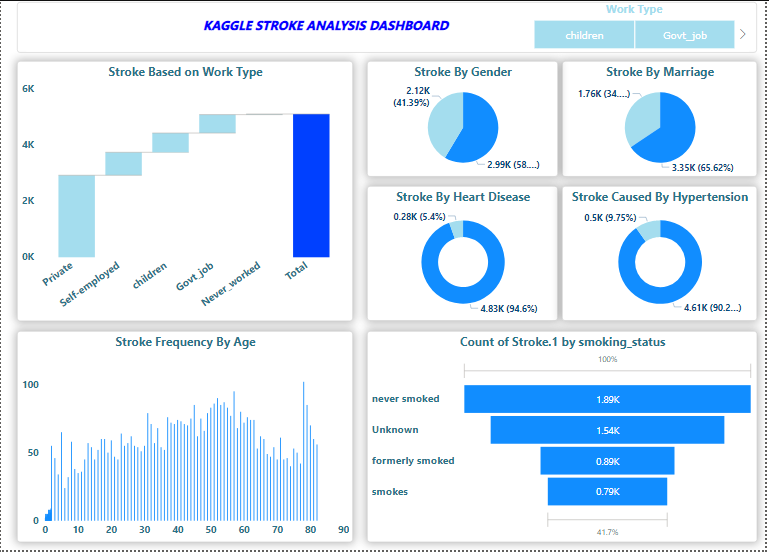

This screenshot's page, from the dashboard's own definition file:
{"tool":"powerbi","page":{"name":"DashBoard","canvas":[1280,920],"ordinal":1},"visuals":[{"type":"clusteredColumnChart","title":"Stroke Frequency By Age","fields":{"Category":["healthcare-dataset-stroke-data.age"],"Y":["CountNonNull(healthcare-dataset-stroke-data.Stroke.1)"]},"box":[26.8,553,563.1,353.6],"z":0},{"type":"funnel","fields":{"Category":["healthcare-dataset-stroke-data.smoking_status"],"Y":["CountNonNull(healthcare-dataset-stroke-data.Stroke.1)"]},"box":[613.3,553,653.6,353.6],"z":1000},{"type":"waterfallChart","title":"Stroke Based on Work Type","fields":{"Category":["healthcare-dataset-stroke-data.work_type"],"Y":["CountNonNull(healthcare-dataset-stroke-data.Stroke.1)"]},"box":[26.8,100.5,563.1,435.7],"z":2000},{"type":"pieChart","title":"Stroke By Marriage","fields":{"Category":["healthcare-dataset-stroke-data.ever_married"],"Y":["CountNonNull(healthcare-dataset-stroke-data.Stroke.1)"]},"box":[940.1,100.5,326.8,194.4],"z":3000},{"type":"pieChart","title":"Stroke By Gender","fields":{"Category":["healthcare-dataset-stroke-data.gender"],"Y":["CountNonNull(healthcare-dataset-stroke-data.Stroke.1)"]},"box":[613.3,100.5,320.1,194.4],"z":4000},{"type":"donutChart","title":"Stroke By Heart Disease","fields":{"Category":["healthcare-dataset-stroke-data.Heart Disease"],"Y":["CountNonNull(healthcare-dataset-stroke-data.Stroke.1)"]},"box":[613.3,310,320.1,226.2],"z":5000},{"type":"donutChart","title":"Stroke Caused By Hypertension","fields":{"Category":["healthcare-dataset-stroke-data.Hyper Values"],"Y":["CountNonNull(healthcare-dataset-stroke-data.Stroke.1)"]},"box":[940.1,310,326.8,226.2],"z":6000},{"type":"basicShape","box":[26.8,1.7,1240.1,85.5],"z":7000},{"type":"textbox","box":[333.5,20.1,512.8,50.3],"z":8000},{"type":"slicer","fields":{"Values":["healthcare-dataset-stroke-data.work_type"]},"box":[966.9,1.7,300,85.5],"z":8001}]}

Visuals, with their boxes in screenshot pixels (x1, y1, x2, y2), scaled from the page's 1280x920 canvas onto the 769x553 screenshot:
"Stroke Frequency By Age" clusteredColumnChart: 16 332 354 545
funnel - healthcare-dataset-stroke-data.smoking_status x CountNonNull(healthcare-dataset-stroke-data.Stroke.1): 368 332 761 545
"Stroke Based on Work Type" waterfallChart: 16 60 354 322
"Stroke By Marriage" pieChart: 565 60 761 177
"Stroke By Gender" pieChart: 368 60 561 177
"Stroke By Heart Disease" donutChart: 368 186 561 322
"Stroke Caused By Hypertension" donutChart: 565 186 761 322
basicShape: 16 1 761 52
textbox: 200 12 508 42
slicer - healthcare-dataset-stroke-data.work_type: 581 1 761 52
